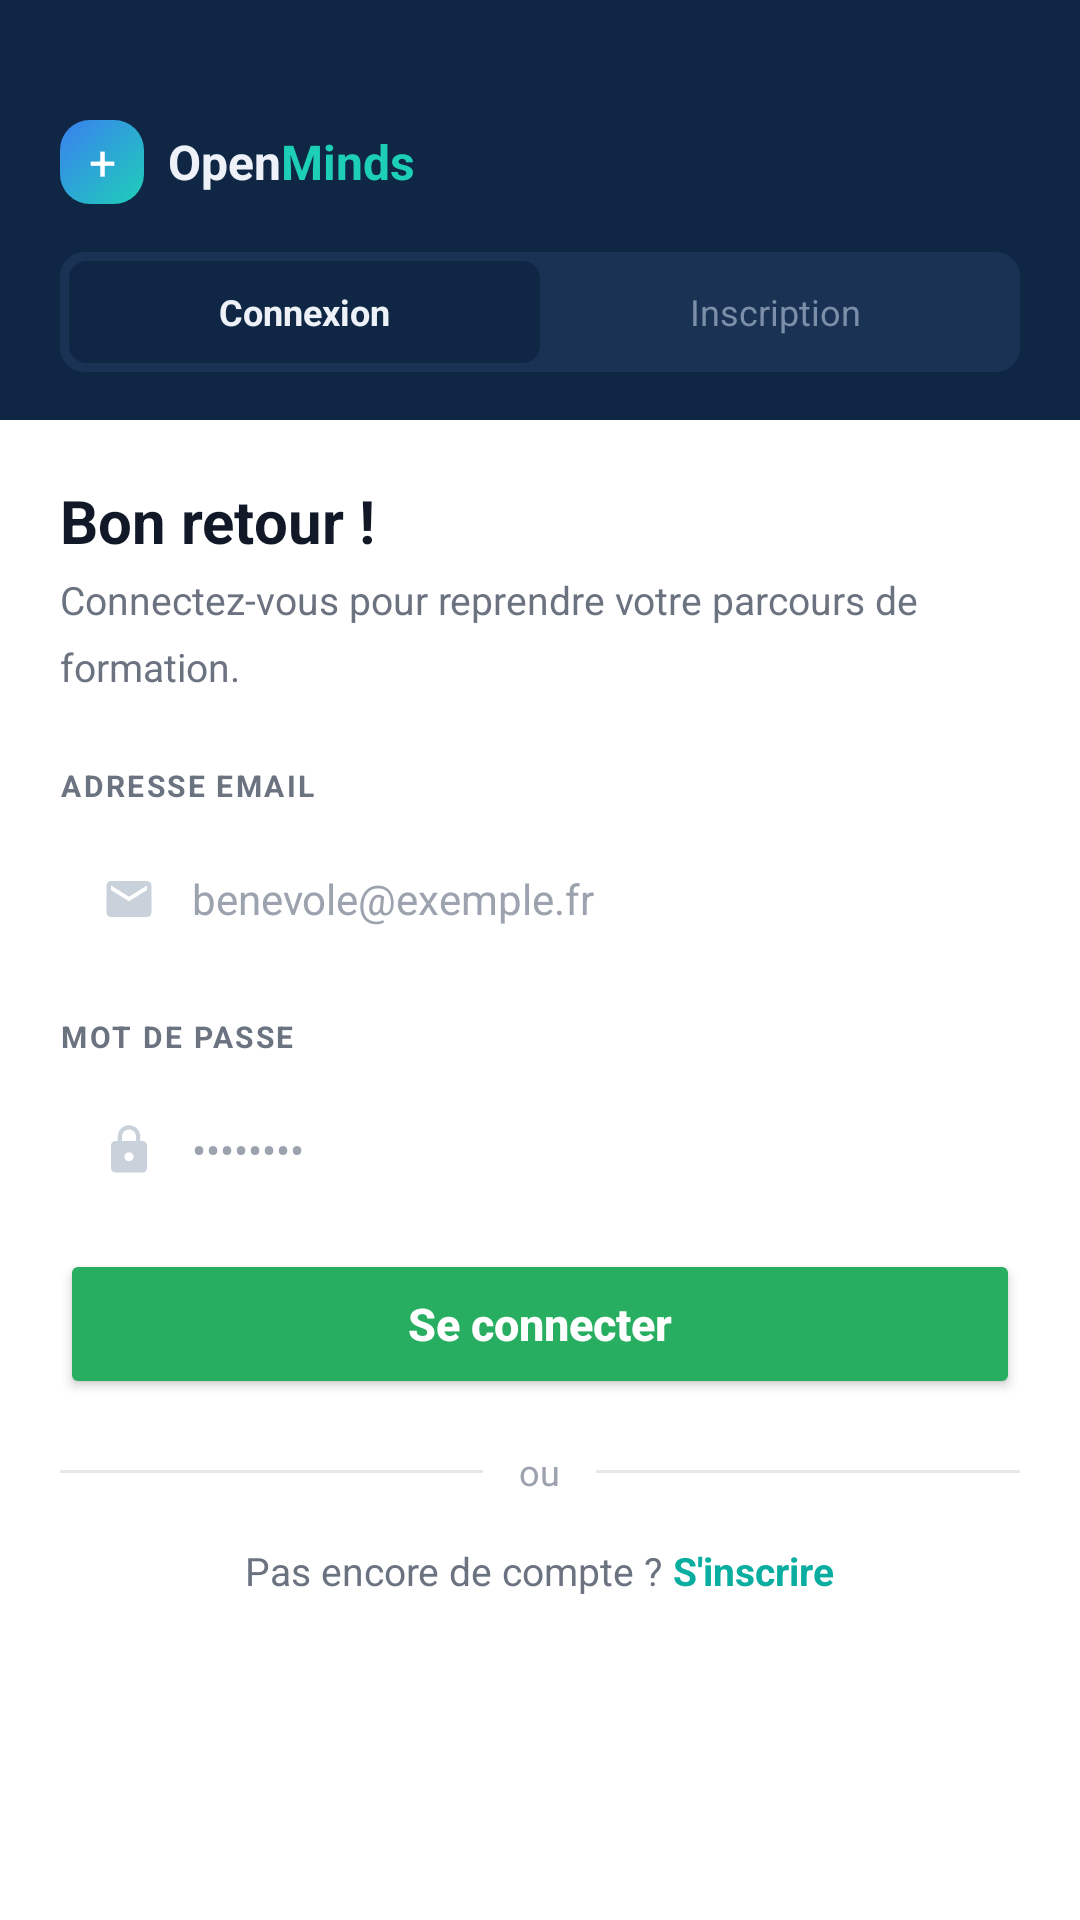

Icons on this 1080×1920 Android screen, each with its box as (x1, y1, x2, y2):
lock: (111, 1125, 147, 1173)
